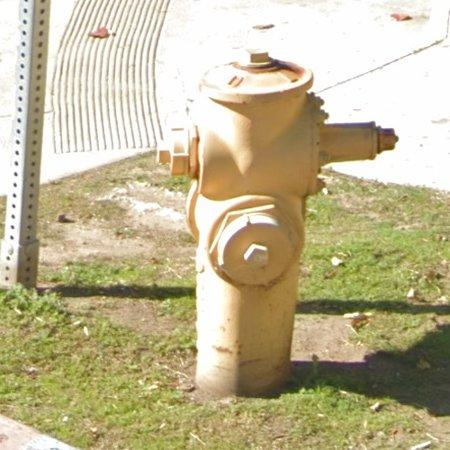a fire hydrant: (187, 52, 398, 396)
